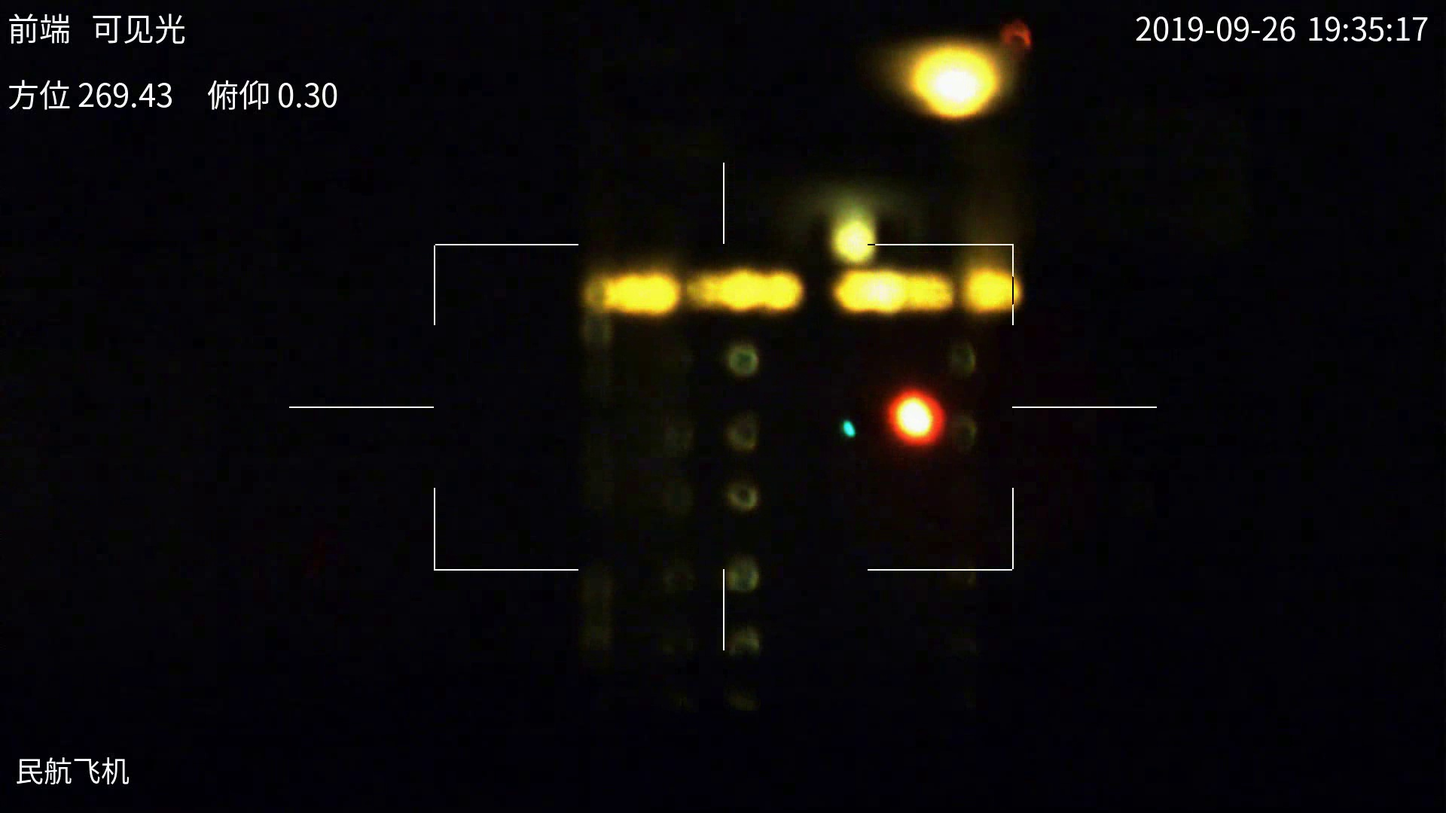drone: (837, 393, 946, 443)
